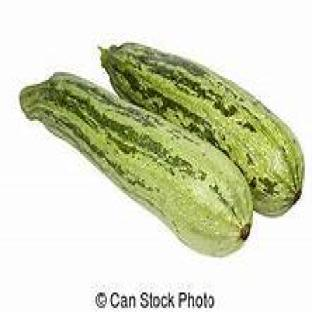Zucchini: (20, 75, 252, 255), (102, 43, 303, 216)
